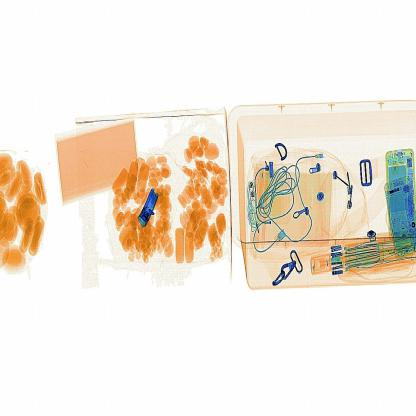pliers: (135, 184, 169, 233)
